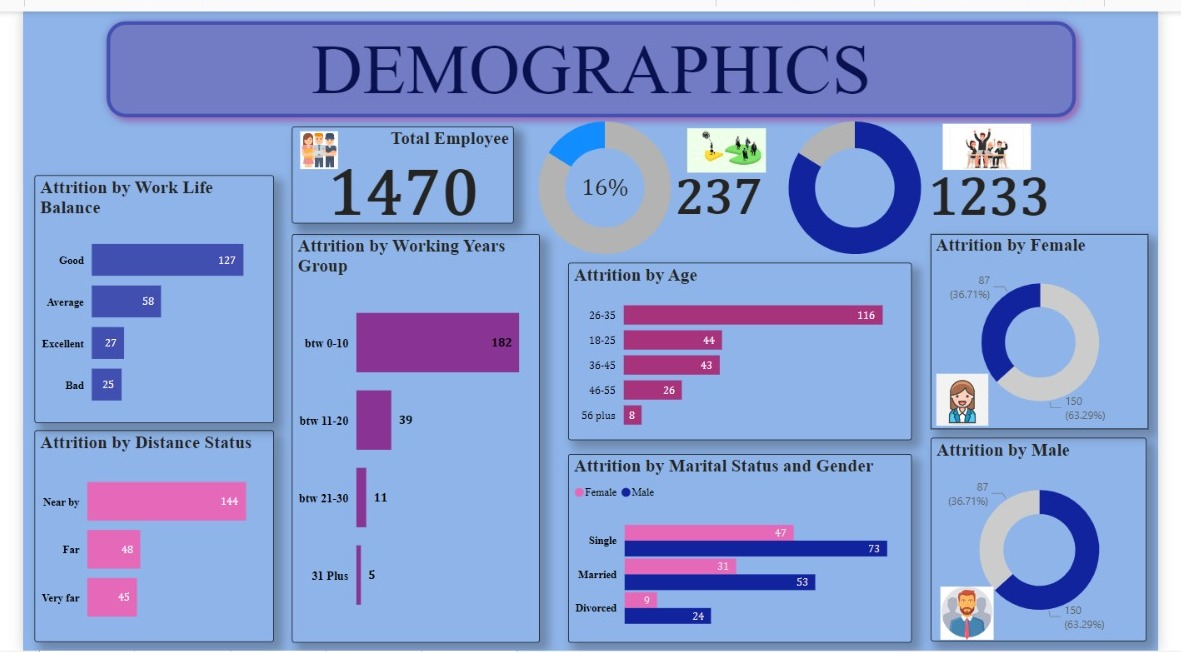

The page's visual inventory and layout, read from the dashboard file:
{"tool":"powerbi","page":{"name":"Page 2","canvas":[1280,720],"ordinal":1},"visuals":[{"type":"card","title":"Total Employee","fields":{"Values":["All Measure.Total Employees"]},"box":[303,129.6,249.9,109.3],"z":0},{"type":"barChart","title":"Attrition by Working Years Group","fields":{"Y":["All Measure.Total Attritation"],"Category":["HR-Employee-Attrition.Working Years Group"]},"box":[303,251.5,279.6,460.7],"z":1000},{"type":"card","title":"Total Attrition","fields":{"Values":["All Measure.% Attritation"]},"box":[613.8,164,82.8,67.2],"z":2000},{"type":"donutChart","title":"Attrition by Male","fields":{"Category":["HR-Employee-Attrition.Gender"],"Y":["All Measure.Total Attritation"]},"box":[1023,481,243.6,229.6],"z":3000},{"type":"shape","box":[83.3,0,1114.5,130.2],"z":4000},{"type":"donutChart","title":"Attrition by Female","fields":{"Y":["All Measure.Total Attritation"],"Category":["HR-Employee-Attrition.Gender"]},"box":[1023,251.5,245.2,220.2],"z":5000},{"type":"donutChart","fields":{"Category":["HR-Employee-Attrition.Attrition"],"Y":["All Measure.Total Employees"]},"box":[510.7,100,290.5,196.8],"z":6000},{"type":"cardVisual","fields":{"Data":["Sum(HR-Employee-Attrition.Attrition Count)"]},"box":[562.3,121.8,288.9,174.9],"z":7000},{"type":"donutChart","fields":{"Category":["HR-Employee-Attrition.Attrition"],"Y":["All Measure.Total Employees"]},"box":[791.8,100,290.5,196.8],"z":8000},{"type":"cardVisual","fields":{"Data":["HR-Employee-Attrition.AE"]},"box":[871.5,121.8,303,174.9],"z":9000},{"type":"clusteredBarChart","title":"Attrition by Work Life Balance ","fields":{"Category":["HR-Employee-Attrition.WorkLifeBalance (groups)"],"Y":["All Measure.Total Attritation"]},"box":[12.5,184.3,270.2,279.6],"z":10000},{"type":"clusteredBarChart","title":"Attrition by Distance Status","fields":{"Category":["HR-Employee-Attrition.Distance Status"],"Y":["All Measure.Total Attritation"]},"box":[12.5,471.7,270.2,239],"z":11000},{"type":"image","box":[741.9,104.6,100,104.6],"z":12000},{"type":"image","box":[1029.2,121.8,115.6,62.5],"z":13000},{"type":"image","box":[303,129.6,60.9,53.1],"z":14000},{"type":"image","box":[1029.2,637.2,70.3,82.8],"z":15000},{"type":"image","box":[1016.7,403,82.8,68.7],"z":16000},{"type":"clusteredBarChart","title":"Attrition by Age","fields":{"Category":["HR-Employee-Attrition.Age Bucket"],"Y":["All Measure.Total Attritation"]},"box":[613.8,282.7,387.3,199.9],"z":17000},{"type":"clusteredBarChart","title":"Attrition by Marital Status and Gender","fields":{"Y":["All Measure.Total Attritation"],"Category":["HR-Employee-Attrition.MaritalStatus"],"Series":["HR-Employee-Attrition.Gender"]},"box":[613.8,498.2,387.3,212.4],"z":18000}]}

Visuals, with their boxes in screenshot pixels (x1, y1, x2, y2), scaled from the page's 1280x720 canvas onto the 1181x652 screenshot:
"Total Employee" card: <bbox>280, 117, 510, 216</bbox>
"Attrition by Working Years Group" barChart: <bbox>280, 228, 538, 645</bbox>
"Total Attrition" card: <bbox>566, 149, 643, 209</bbox>
"Attrition by Male" donutChart: <bbox>944, 436, 1169, 643</bbox>
shape: <bbox>77, 0, 1105, 118</bbox>
"Attrition by Female" donutChart: <bbox>944, 228, 1170, 427</bbox>
donutChart - HR-Employee-Attrition.Attrition x All Measure.Total Employees: <bbox>471, 91, 739, 269</bbox>
cardVisual - Sum(HR-Employee-Attrition.Attrition Count): <bbox>519, 110, 785, 269</bbox>
donutChart - HR-Employee-Attrition.Attrition x All Measure.Total Employees: <bbox>731, 91, 999, 269</bbox>
cardVisual - HR-Employee-Attrition.AE: <bbox>804, 110, 1084, 269</bbox>
"Attrition by Work Life Balance " clusteredBarChart: <bbox>12, 167, 261, 420</bbox>
"Attrition by Distance Status" clusteredBarChart: <bbox>12, 427, 261, 644</bbox>
image: <bbox>685, 95, 777, 189</bbox>
image: <bbox>950, 110, 1056, 167</bbox>
image: <bbox>280, 117, 336, 165</bbox>
image: <bbox>950, 577, 1014, 651</bbox>
image: <bbox>938, 365, 1014, 427</bbox>
"Attrition by Age" clusteredBarChart: <bbox>566, 256, 924, 437</bbox>
"Attrition by Marital Status and Gender" clusteredBarChart: <bbox>566, 451, 924, 643</bbox>
